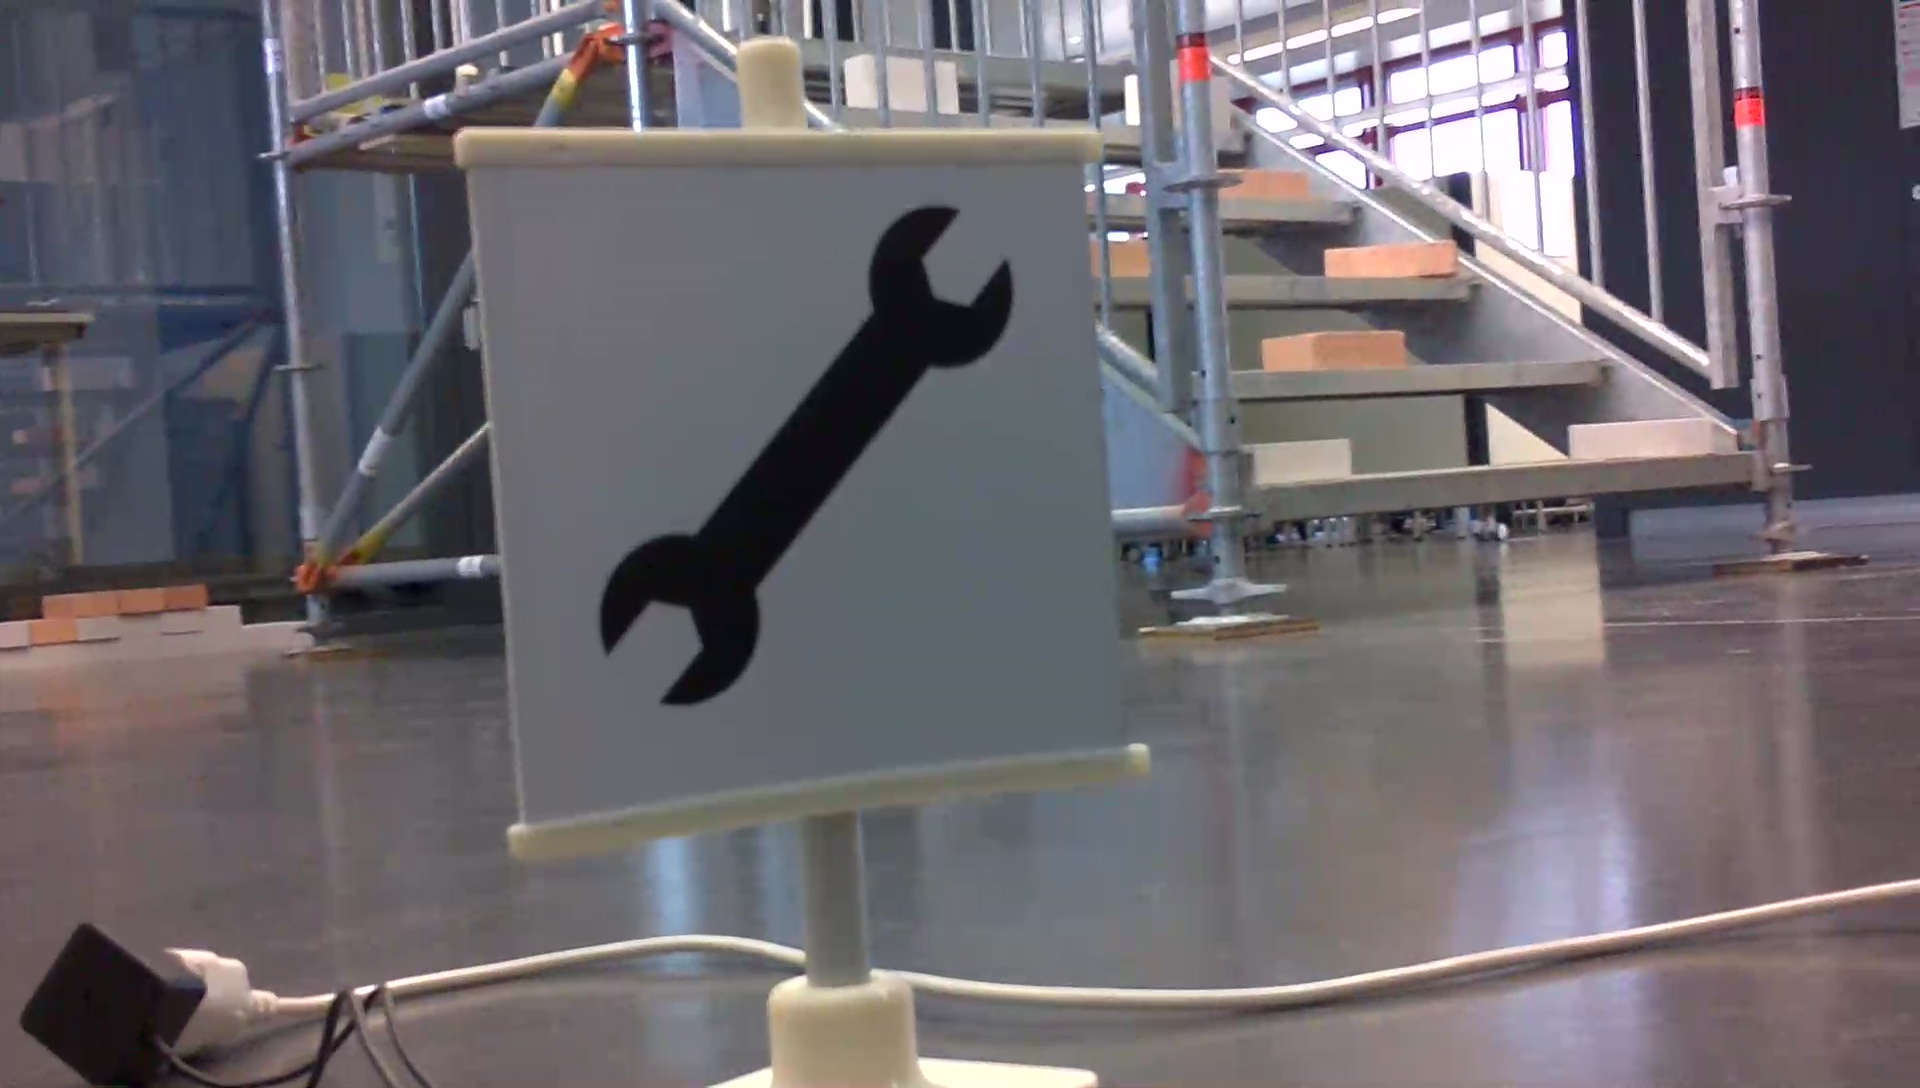brick: (1569, 421, 1712, 460), (1261, 332, 1403, 369), (1327, 243, 1456, 278), (1245, 443, 1348, 479), (1216, 167, 1305, 200), (1207, 73, 1228, 129)
edge: (1255, 452, 1753, 516), (1222, 353, 1610, 398), (1220, 276, 1482, 301), (1209, 193, 1370, 222)
wrench: (585, 195, 1025, 713)
